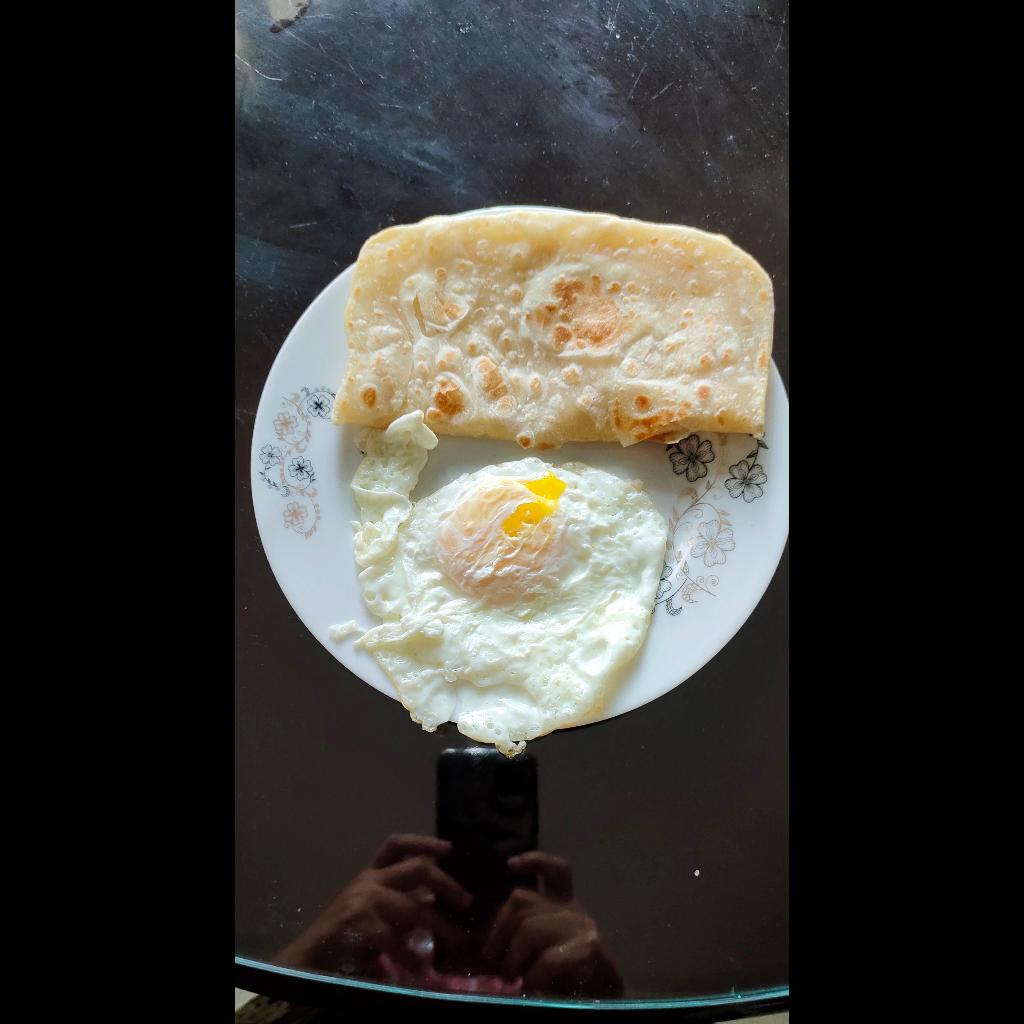egg-poached: (322, 414, 672, 753)
ruti: (332, 206, 776, 450)
